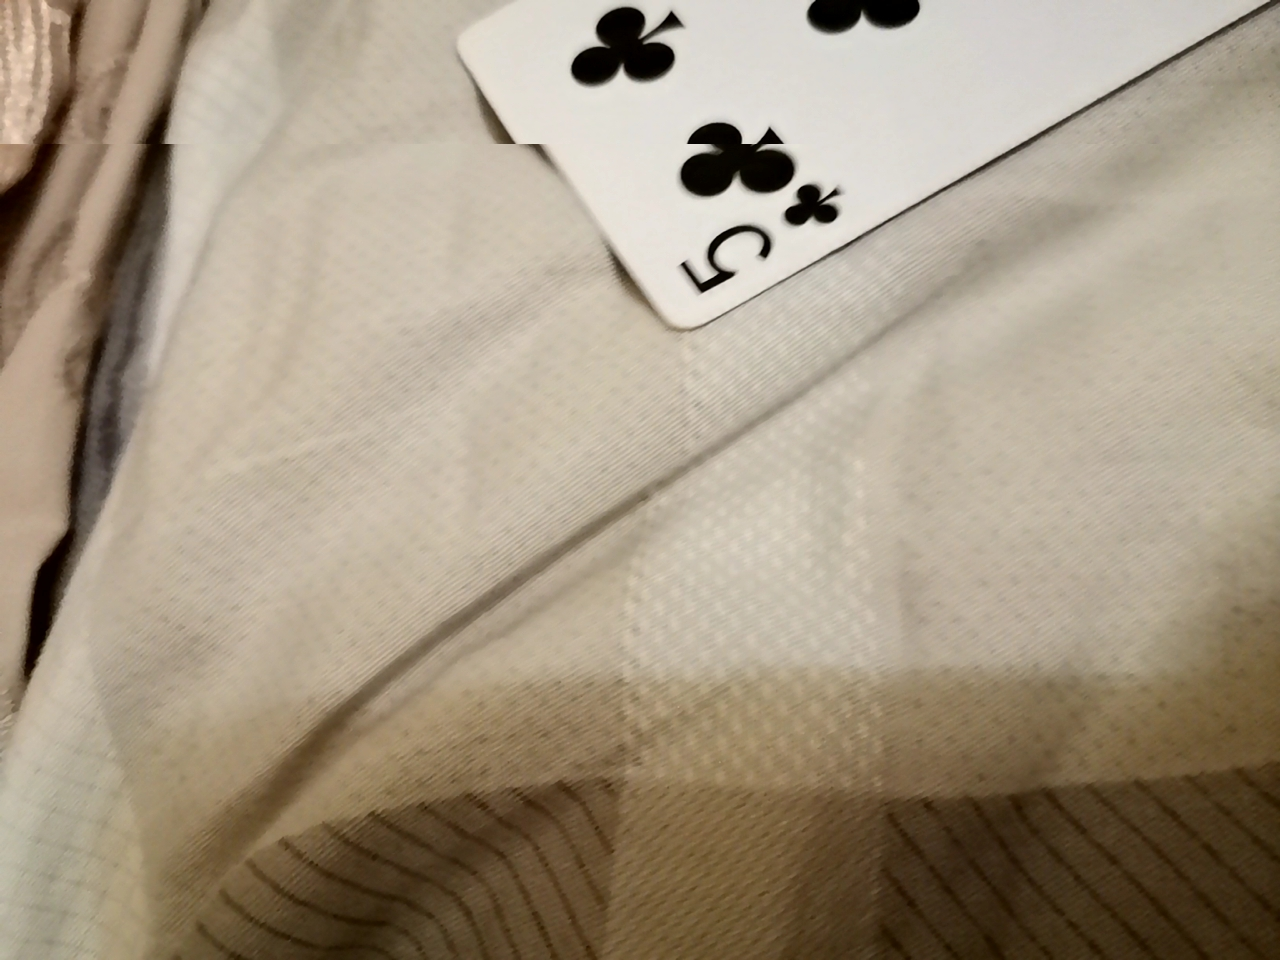mh 5: (415, 4, 1278, 348)
